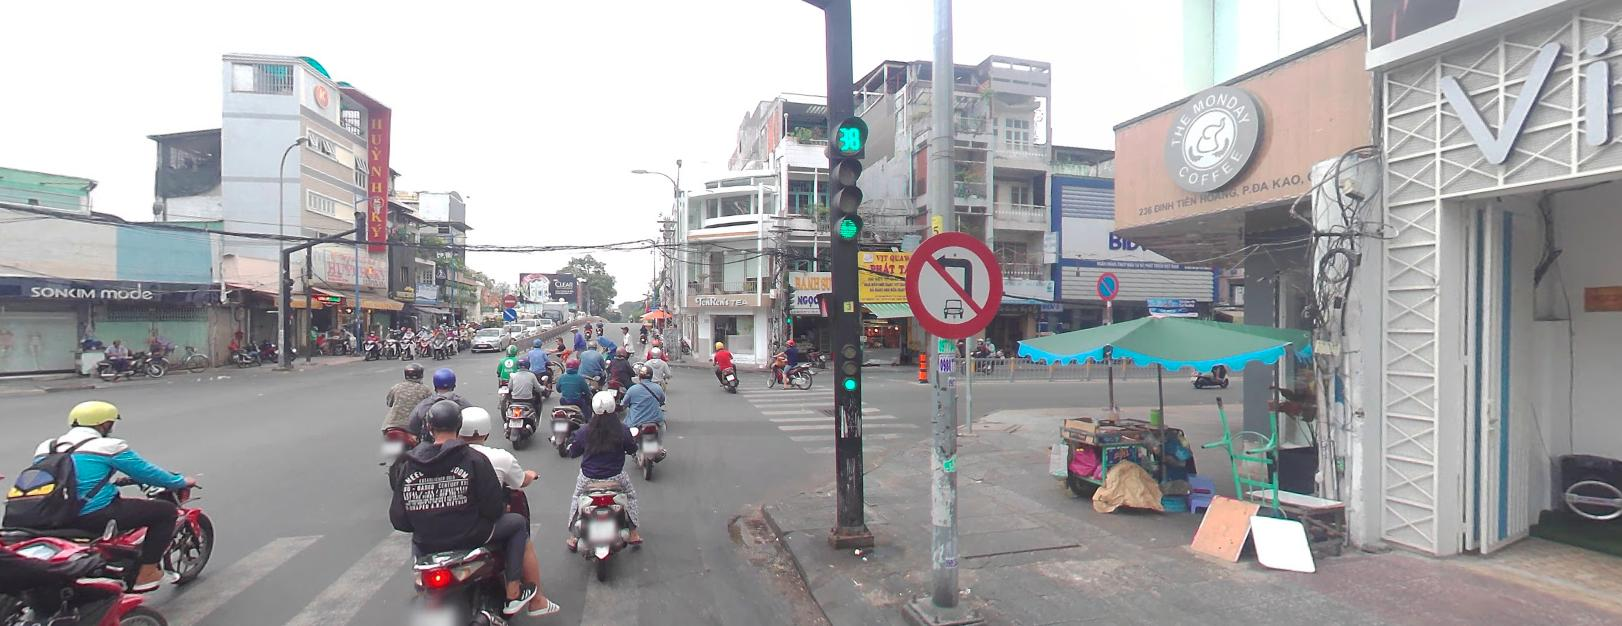Cam dung va do: (1097, 271, 1118, 298)
Cam nguoc chieu: (503, 292, 515, 305)
Cam re: (903, 230, 1003, 337)
Hieu lenh: (502, 307, 515, 320)
